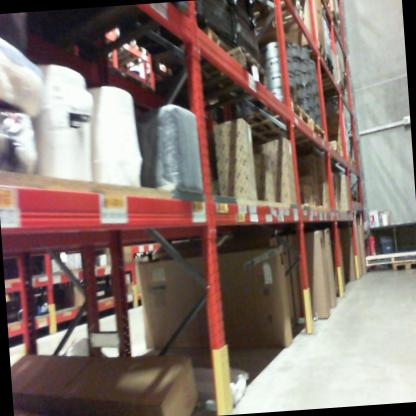pallet: (170, 43, 272, 110), (231, 91, 314, 152), (137, 28, 238, 72), (258, 119, 328, 156), (294, 39, 328, 67), (322, 76, 348, 104), (315, 54, 336, 82), (389, 258, 416, 273), (325, 138, 346, 157)
